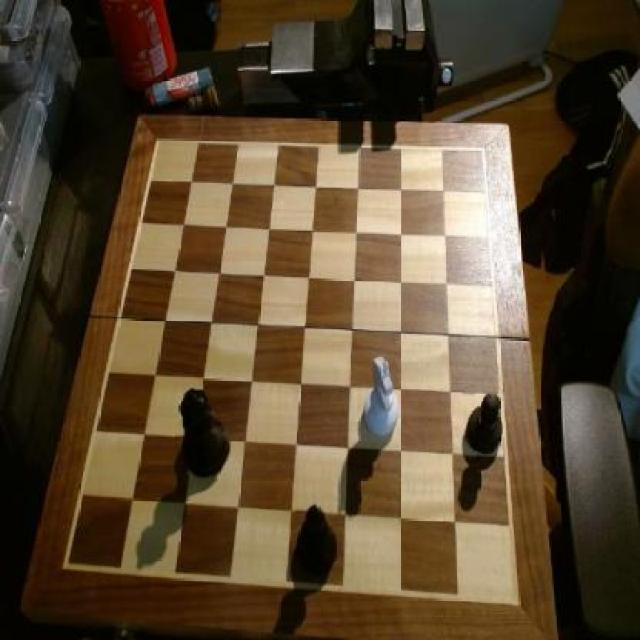bishop: (294, 502, 338, 582)
black-knight: (464, 391, 506, 458)
black-pawn: (175, 384, 231, 478)
white-king: (363, 352, 403, 440)
